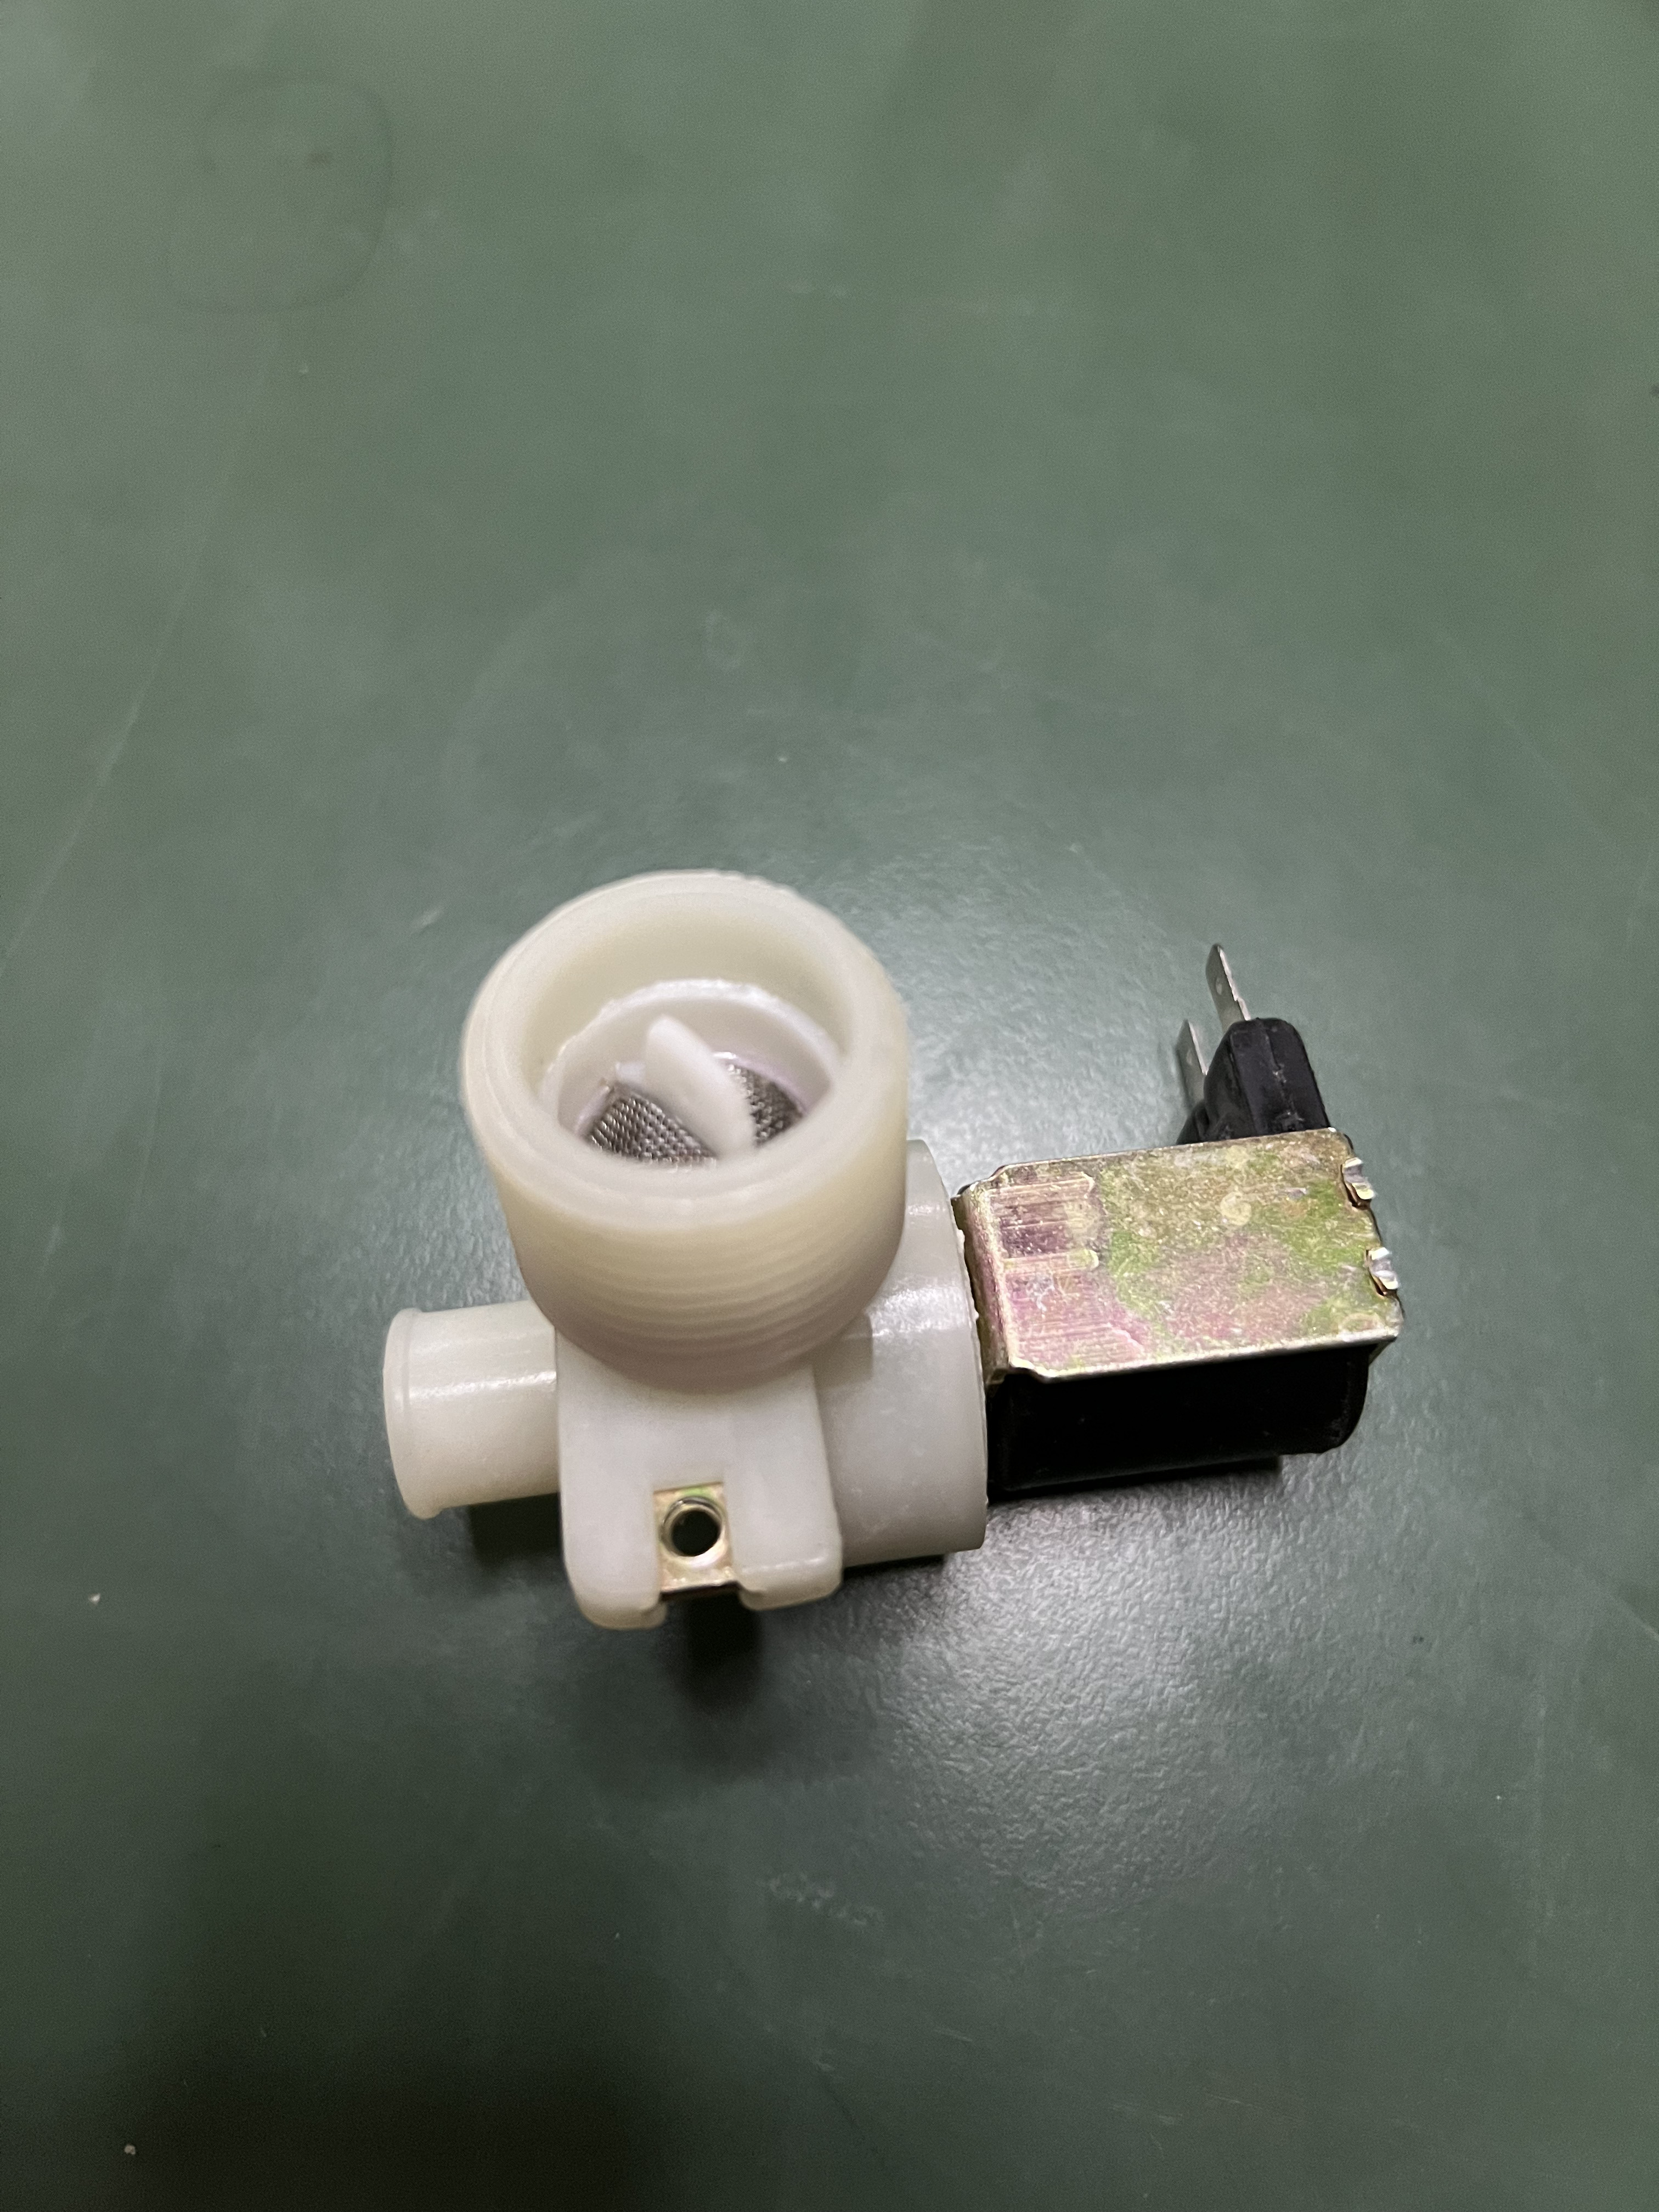godrej_inlet_valves: (371, 883, 1408, 1663)
